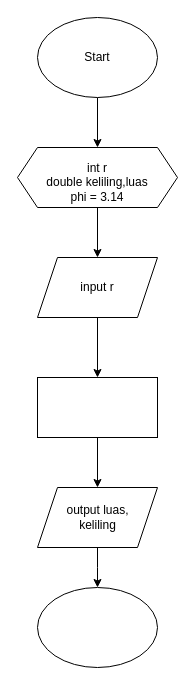
Some shapes in this 195 by 685 pixel diagram are drawn without their labels. The centre of each missing label's shape, as x and y in pixels:
"Finish" belongs at pixel 97 627.
"keliling = 2*phi*r luas = phi*r*r" belongs at pixel 97 407.
